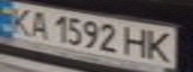1: (48, 12, 72, 44)
2: (96, 20, 124, 54)
5: (63, 16, 84, 47)
9: (78, 18, 103, 51)
A: (24, 9, 54, 39)
H: (121, 25, 154, 60)
K: (142, 28, 178, 63), (3, 3, 36, 35)
